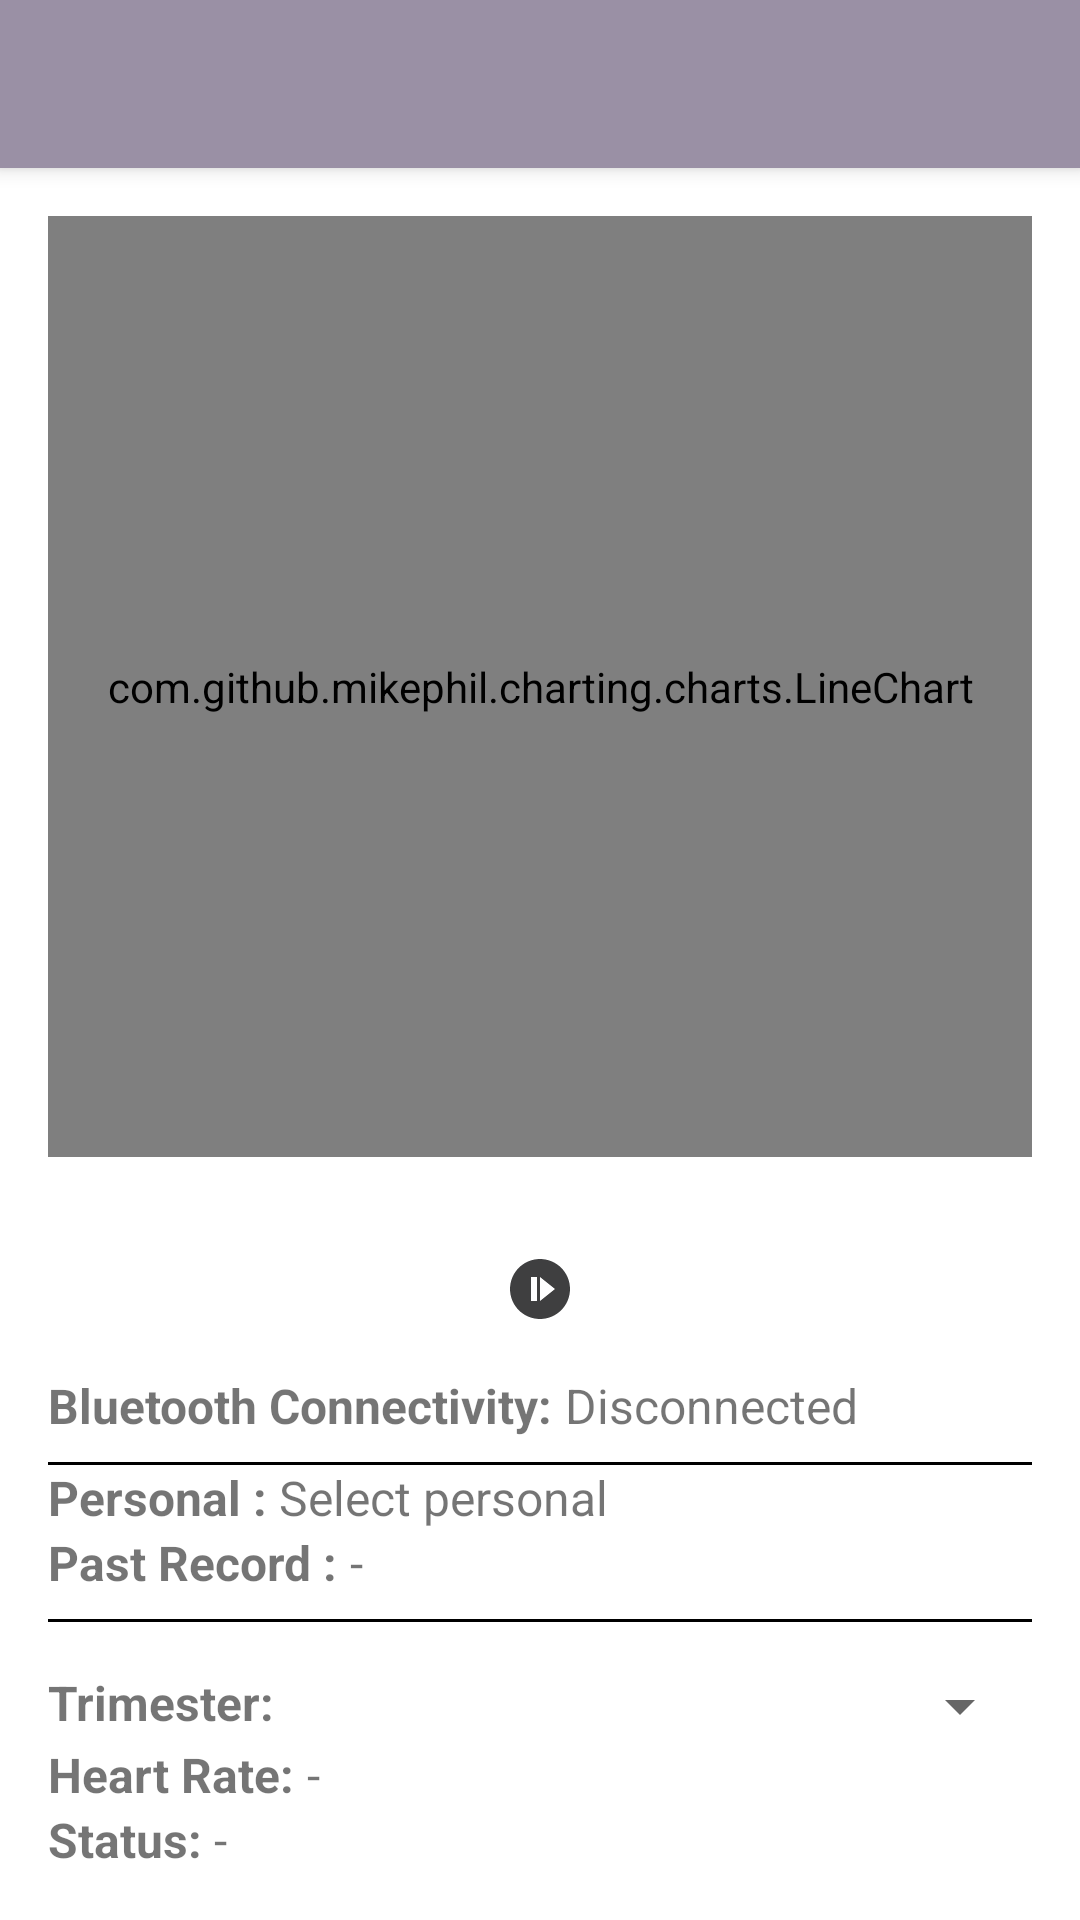

Where icons sit on this 1080w x 1920h app screen, as (x1, y1, x2, y2):
Start Button: (510, 1259, 570, 1319)
